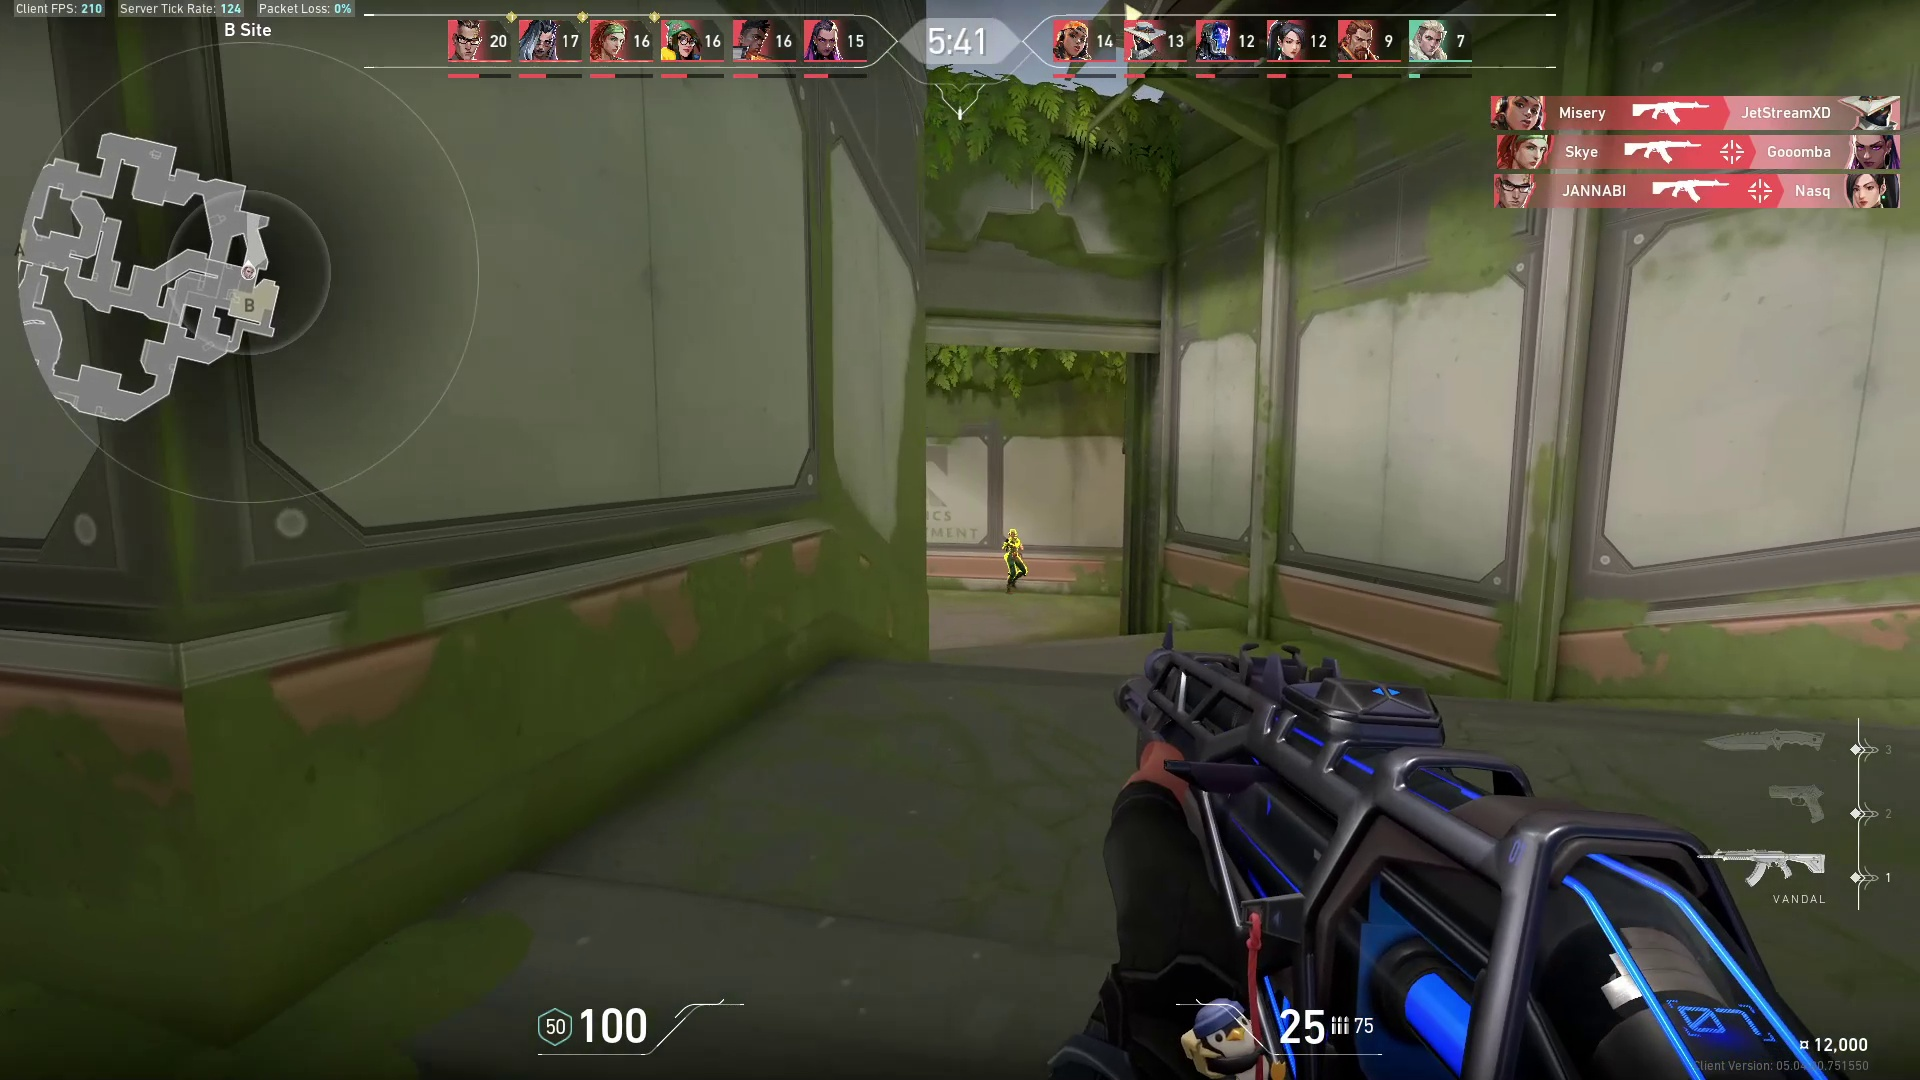enemy_body: (1000, 539, 1029, 596)
enemy_head: (1006, 527, 1018, 539)
